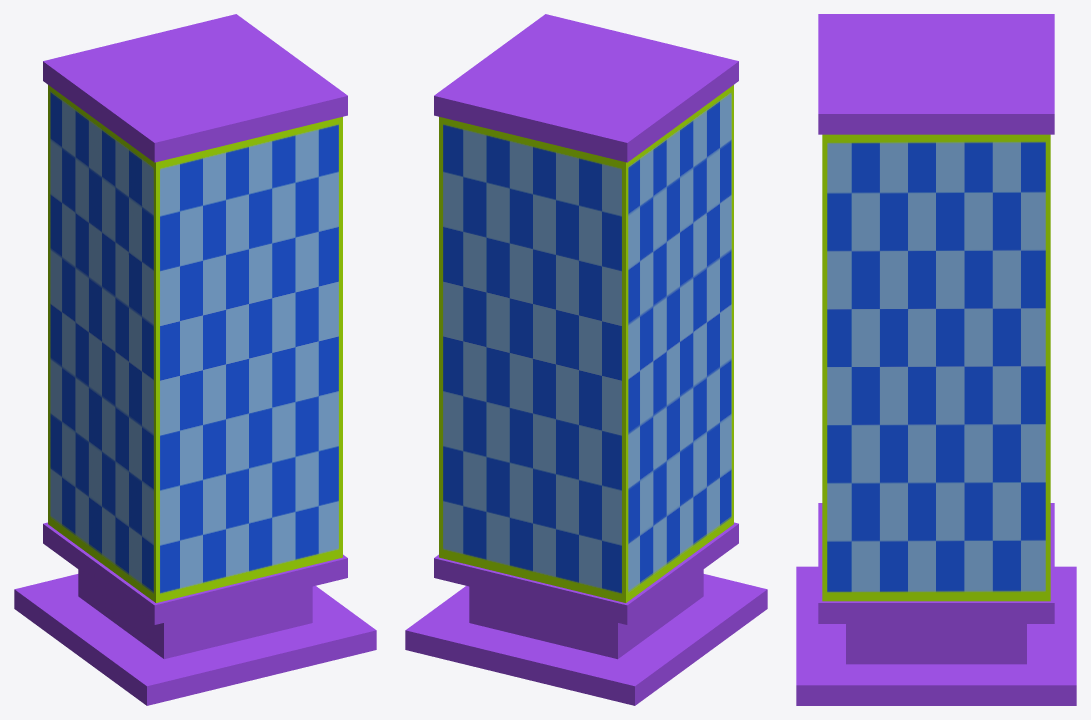
Rendered from LightTable01_2.FBX.
3 renders of one model, left to right at view 1: azimuth 30°, elevation 25°; view 2: azimuth 150°, elevation 25°; view 3: azimuth 270°, elevation 25°, orthographic. The views are drawn at different scales.
Visible parts, largest first — view 1: LightTable01_2; view 2: LightTable01_2; view 3: LightTable01_2.
Part boxes in pixels (bbox=[...]): LightTable01_2: bbox=[14, 14, 376, 705]; LightTable01_2: bbox=[405, 14, 767, 705]; LightTable01_2: bbox=[796, 14, 1076, 705].
Size of the model in its own units: 10.99 by 25.2 by 10.99.
